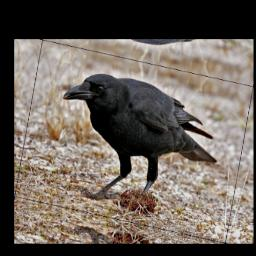Crow: (46, 64, 229, 225)
